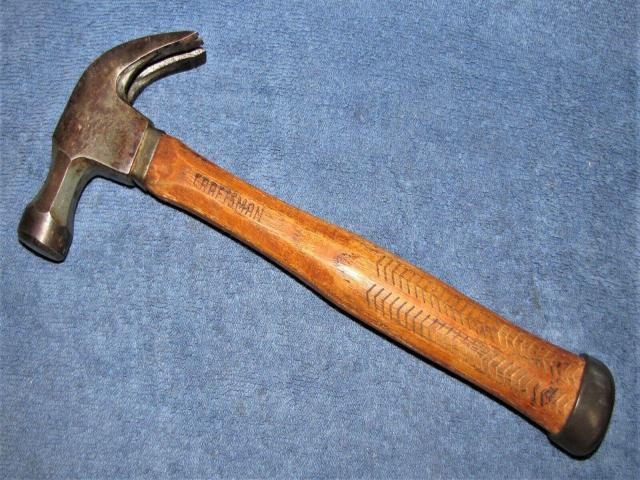hammer: (18, 29, 614, 462)
